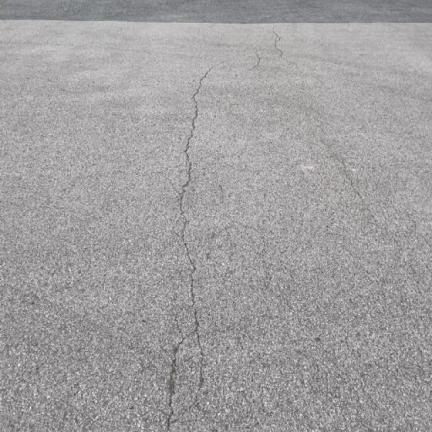Road: (0, 21, 431, 431)
